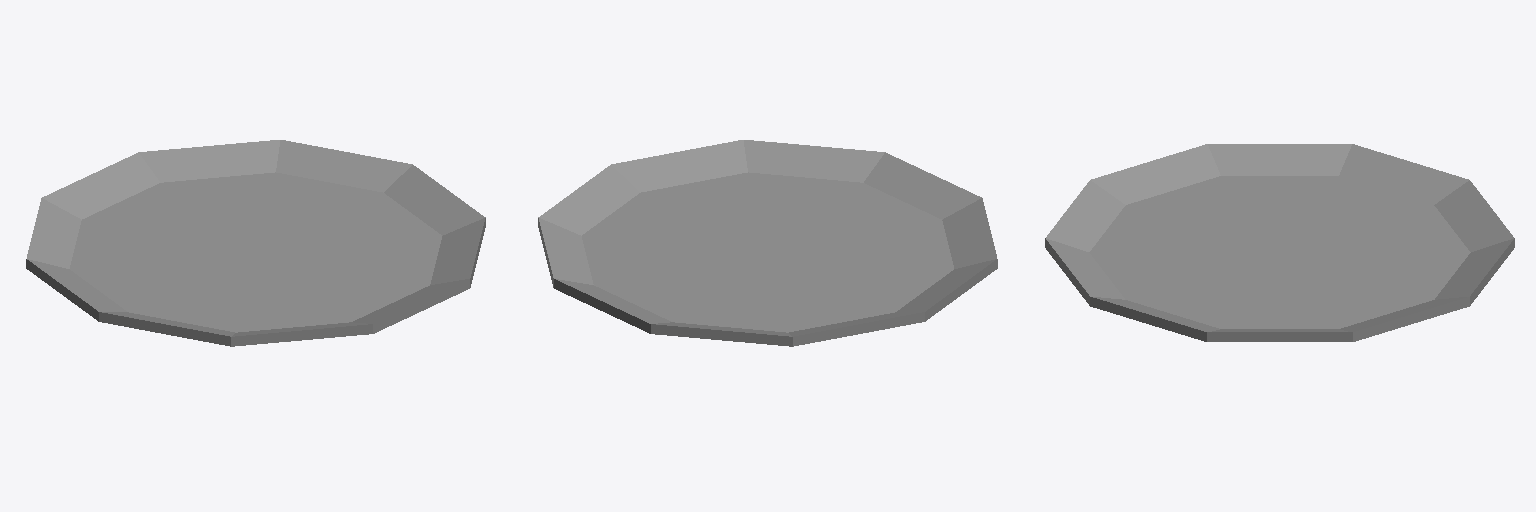
File: Plate.obj
The picture shows the model from 3 angles: view 1: azimuth 30°, elevation 25°; view 2: azimuth 150°, elevation 25°; view 3: azimuth 270°, elevation 25°; orthographic projection.
Visible parts, largest first — view 1: Plate_Circle; view 2: Plate_Circle; view 3: Plate_Circle.
Boxes of the visible parts, x1,y1,x2,y2 form: Plate_Circle: [26, 140, 485, 346]; Plate_Circle: [538, 140, 997, 346]; Plate_Circle: [1045, 144, 1514, 341].
Size of the model in its own units: 0.5454 by 0.0481 by 0.5735.